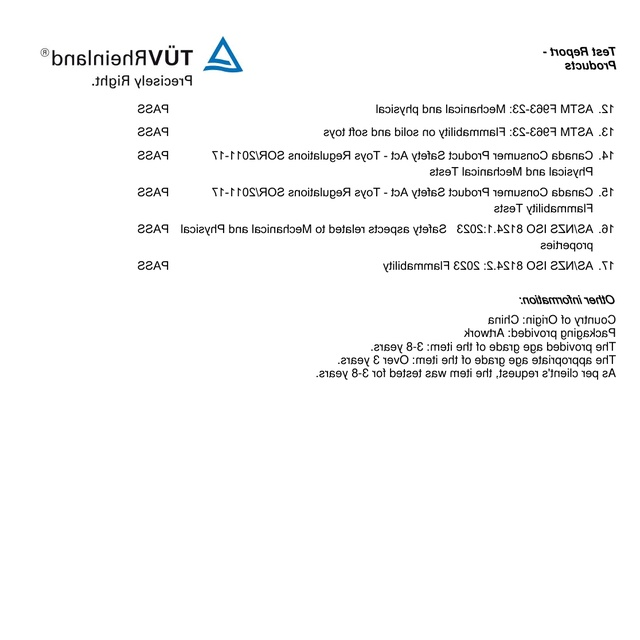tuv_rheinland: (36, 36, 243, 75)
